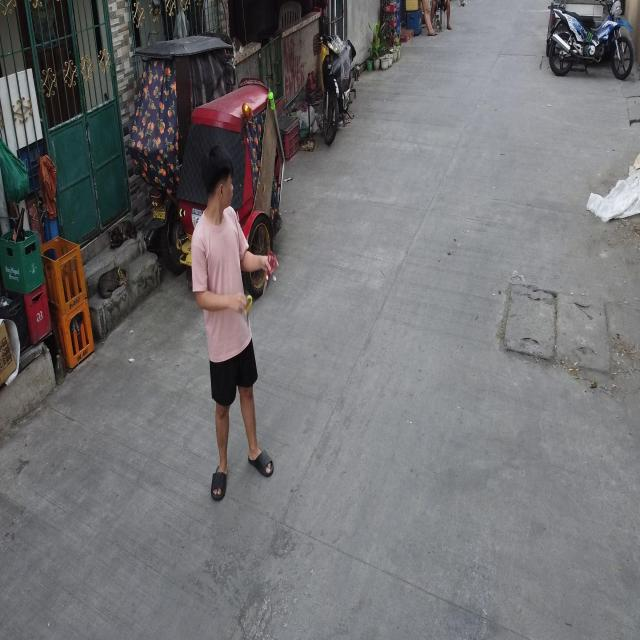scissor: (263, 251, 277, 296), (243, 295, 252, 327)
